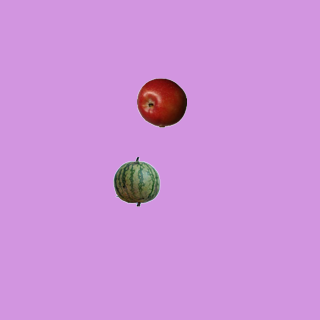Apple Braeburn: (136, 77, 186, 127)
Watermelon: (111, 156, 161, 206)
